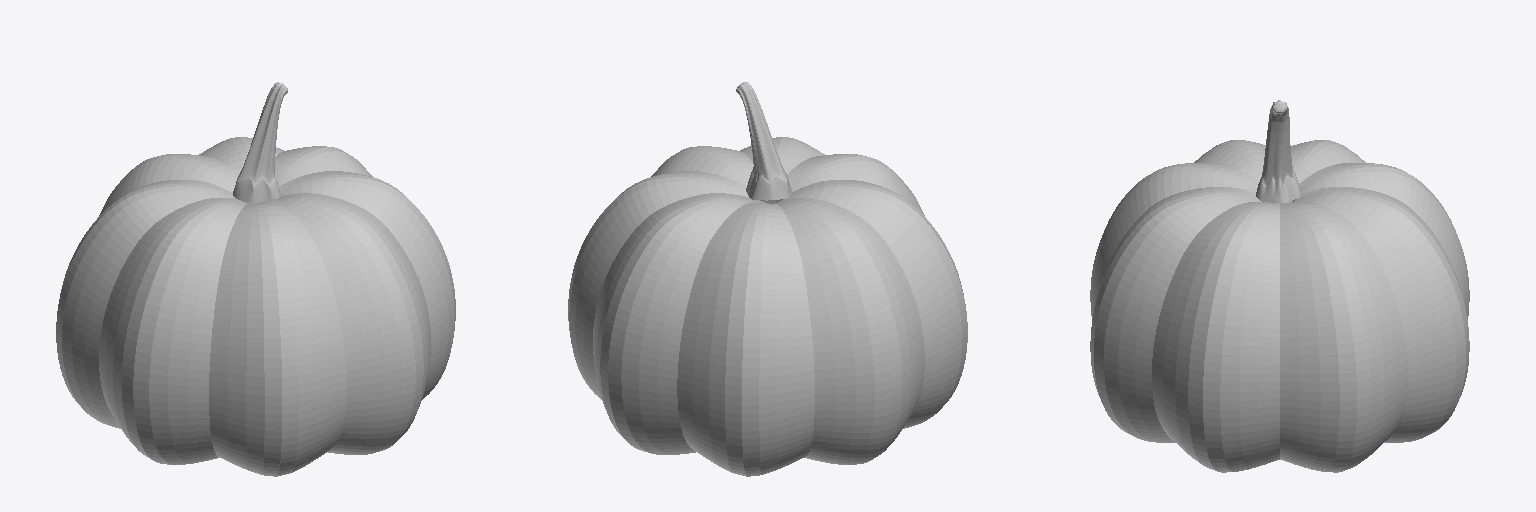
File: pumpkin.obj
3 renders of one model, left to right at view 1: azimuth 30°, elevation 25°; view 2: azimuth 150°, elevation 25°; view 3: azimuth 270°, elevation 25°, orthographic.
Parts seen in each view (by area): view 1: map:pumpkin:Mesh; view 2: map:pumpkin:Mesh; view 3: map:pumpkin:Mesh.
Part boxes in pixels (x1,y1,x2,y2): map:pumpkin:Mesh: (56,82,455,476); map:pumpkin:Mesh: (568,82,967,476); map:pumpkin:Mesh: (1090,100,1469,472).
Bounding box in the file's own units: 3.02 × 2.94 × 3.02.